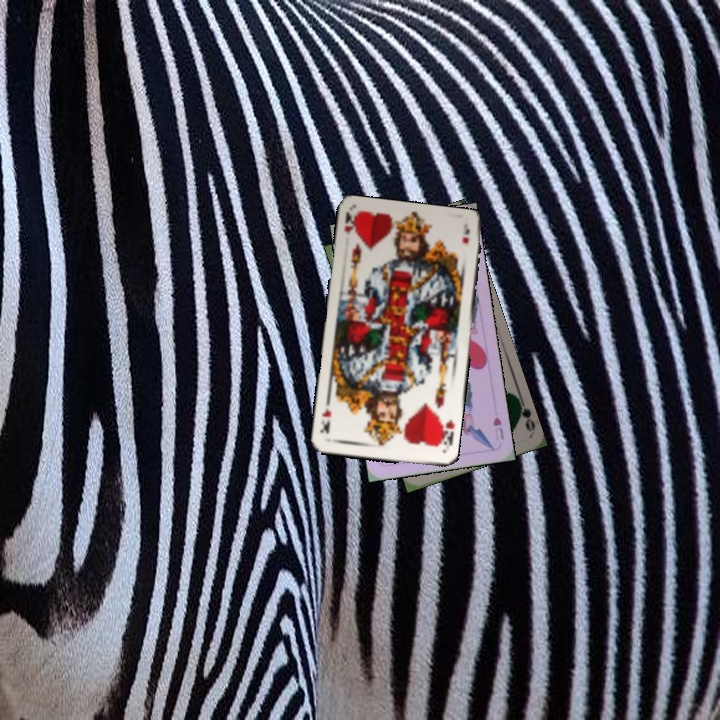GO: (514, 394, 537, 434)
HK: (434, 414, 457, 449), (340, 209, 360, 235)
HU: (489, 413, 507, 443)
